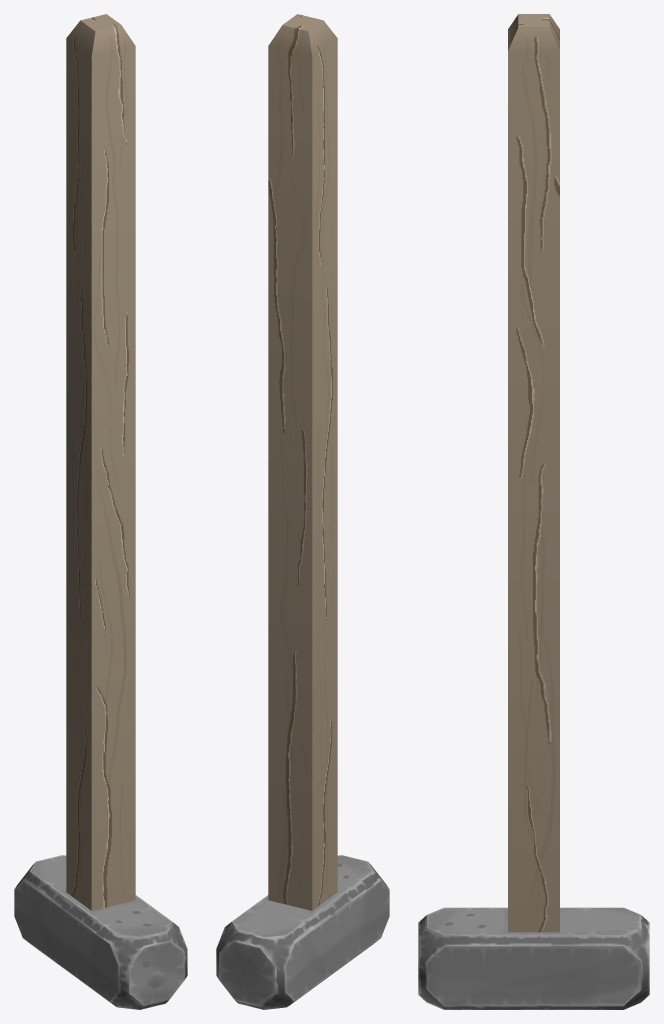
The model's file is big_hammer.fbx.
The picture shows the model from 3 angles, left to right: view 1: azimuth 30°, elevation 25°; view 2: azimuth 150°, elevation 25°; view 3: azimuth 270°, elevation 25°; orthographic projection. The views are drawn at different scales.
Parts seen in each view (by area): view 1: big_hammer; view 2: big_hammer; view 3: big_hammer.
Boxes of the visible parts, box(x1,y1,x2,y2) form: big_hammer: box(14, 14, 187, 1009); big_hammer: box(216, 14, 389, 1009); big_hammer: box(418, 14, 649, 1009).
Size of the model in its own units: 36.32 by 473 by 102.
